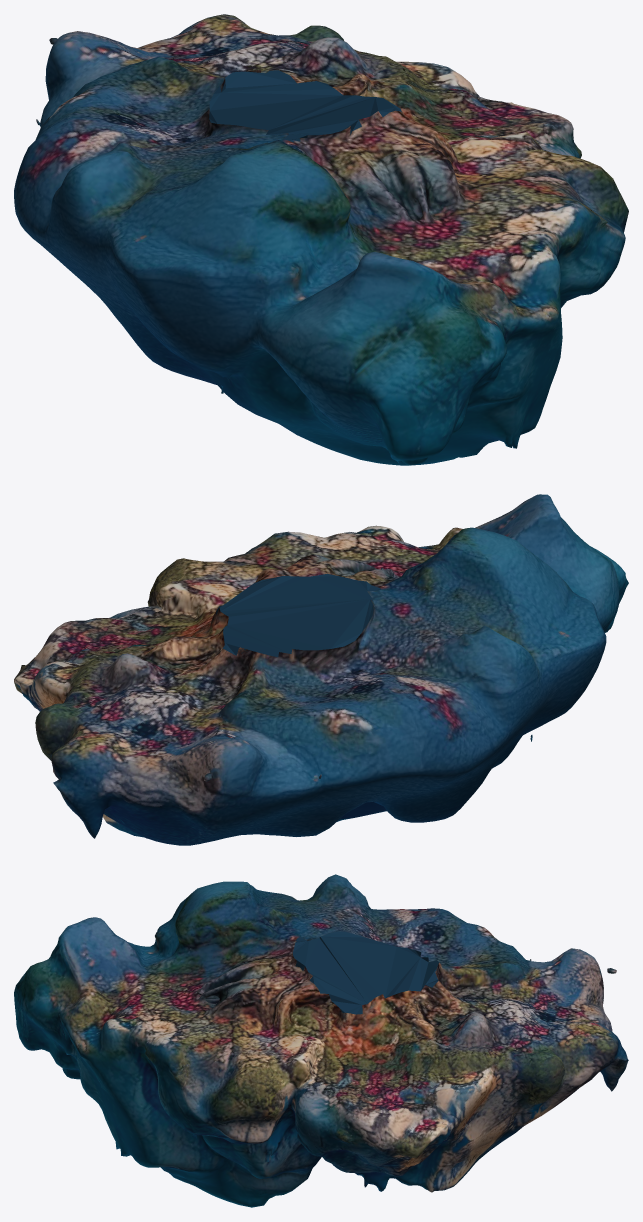
3 views of the same model, one above another, from view 1: azimuth 30°, elevation 25°; view 2: azimuth 150°, elevation 25°; view 3: azimuth 270°, elevation 25° (orthographic). The views are drawn at different scales.
Visible parts, largest first — view 1: tripo_node_1bba5437; view 2: tripo_node_1bba5437; view 3: tripo_node_1bba5437.
Boxes of the visible parts, x1,y1,x2,y2 form: tripo_node_1bba5437: (14, 14, 628, 465); tripo_node_1bba5437: (14, 494, 628, 845); tripo_node_1bba5437: (14, 874, 628, 1207).
Bounding box in the file's own units: 74.51 × 45.54 × 99.81.
